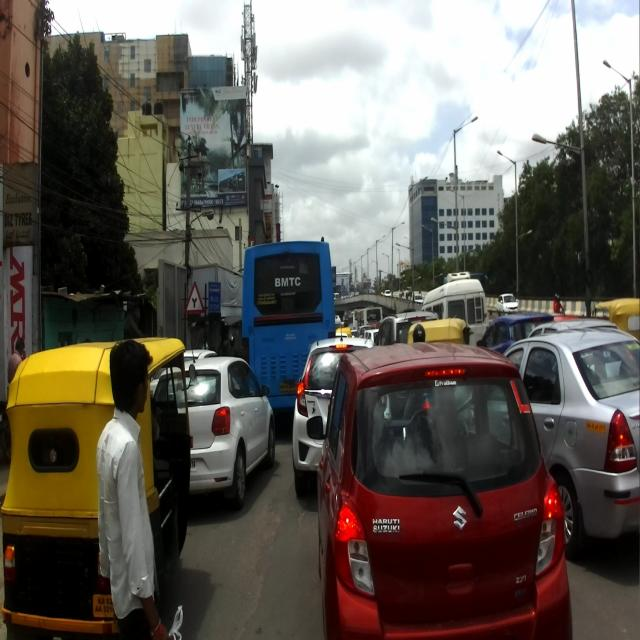Car_Maruti-Suzuki: (306, 340, 573, 637)
Car_Toyota: (503, 328, 639, 558)
Car_Volkswagen: (159, 336, 276, 512)
autorickshaw: (0, 337, 196, 635)
bus: (242, 241, 336, 366)
